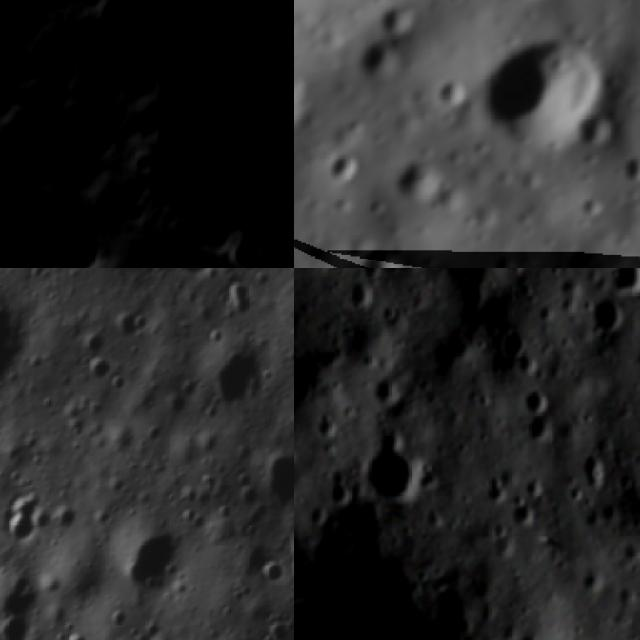crater: (476, 31, 627, 162), (351, 430, 431, 512), (117, 518, 188, 608), (392, 153, 466, 206), (213, 346, 270, 414), (189, 205, 248, 268), (118, 134, 176, 190), (258, 443, 294, 510), (0, 491, 39, 548), (0, 303, 22, 403), (325, 139, 368, 185), (495, 322, 532, 371), (511, 377, 557, 415), (522, 406, 556, 456), (588, 290, 626, 332), (320, 467, 357, 509), (578, 443, 615, 485), (355, 242, 414, 268), (378, 4, 420, 40), (570, 194, 613, 228), (226, 282, 255, 326), (342, 277, 380, 310), (361, 372, 403, 401), (155, 268, 231, 284), (616, 147, 640, 190), (437, 78, 466, 113), (0, 615, 40, 640), (261, 555, 292, 587), (294, 71, 310, 131), (607, 268, 640, 296), (124, 310, 158, 335), (261, 616, 294, 640), (84, 333, 115, 357), (57, 506, 84, 533), (88, 359, 117, 384), (58, 625, 95, 640), (32, 512, 55, 536), (107, 375, 132, 393), (493, 268, 534, 277), (239, 268, 262, 277)
